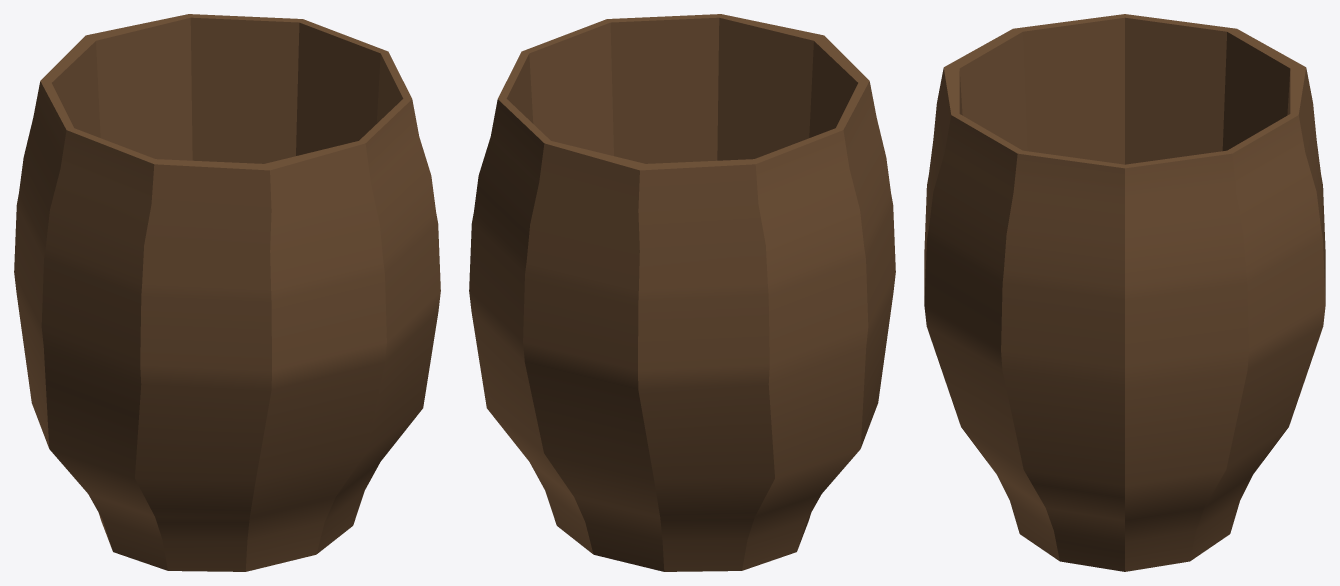
Rendered from Clay_Pot_Three.fbx.
The picture shows the model from 3 angles, left to right: view 1: azimuth 30°, elevation 25°; view 2: azimuth 150°, elevation 25°; view 3: azimuth 270°, elevation 25°; orthographic projection.
Parts seen in each view (by area): view 1: Clay_Pot_Three; view 2: Clay_Pot_Three; view 3: Clay_Pot_Three.
Boxes of the visible parts, bbox=[...] form: Clay_Pot_Three: bbox=[14, 14, 440, 571]; Clay_Pot_Three: bbox=[469, 14, 895, 571]; Clay_Pot_Three: bbox=[924, 14, 1325, 571].
Size of the model in its own units: 0.6823 by 0.7602 by 0.6489.
